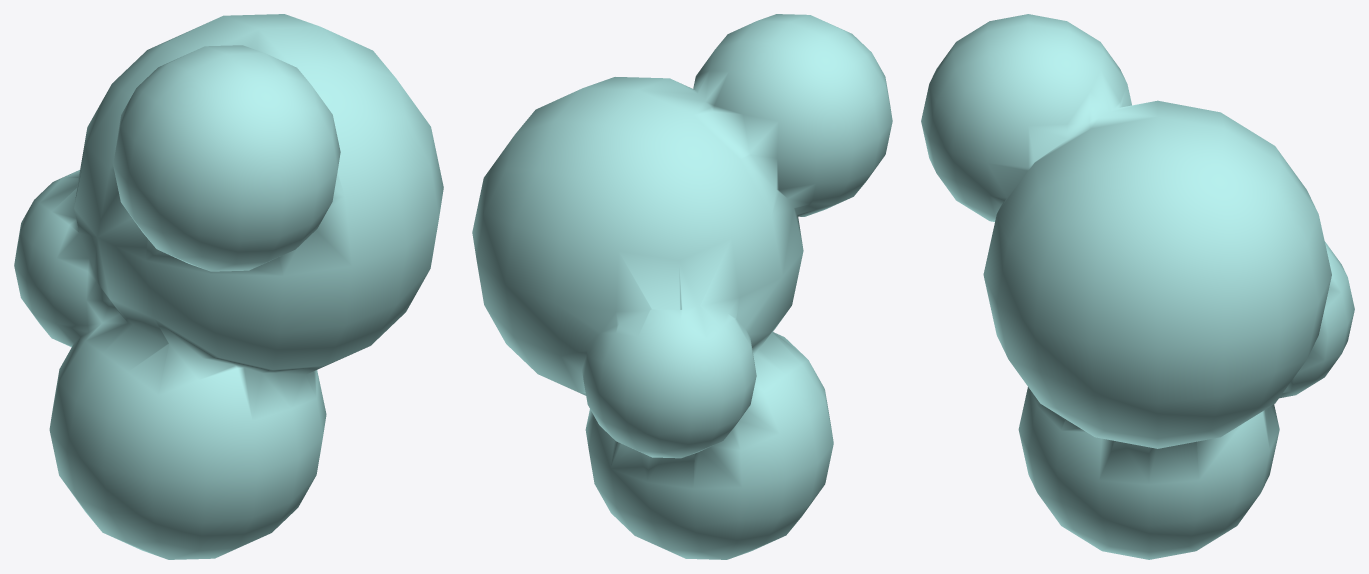
The model's file is eff_foam_strayfoam01.fbx.
3 renders of one model, left to right at view 1: azimuth 30°, elevation 25°; view 2: azimuth 150°, elevation 25°; view 3: azimuth 270°, elevation 25°, orthographic. The views are drawn at different scales.
Parts seen in each view (by area): view 1: foamSphere.001; view 2: foamSphere.001; view 3: foamSphere.001.
Boxes of the visible parts, x1=… form: foamSphere.001: x1=14, y1=14, x2=443, y2=559; foamSphere.001: x1=472, y1=14, x2=892, y2=559; foamSphere.001: x1=921, y1=14, x2=1354, y2=559.
Bounding box in the file's own units: 1.47 × 2.13 × 1.64.
